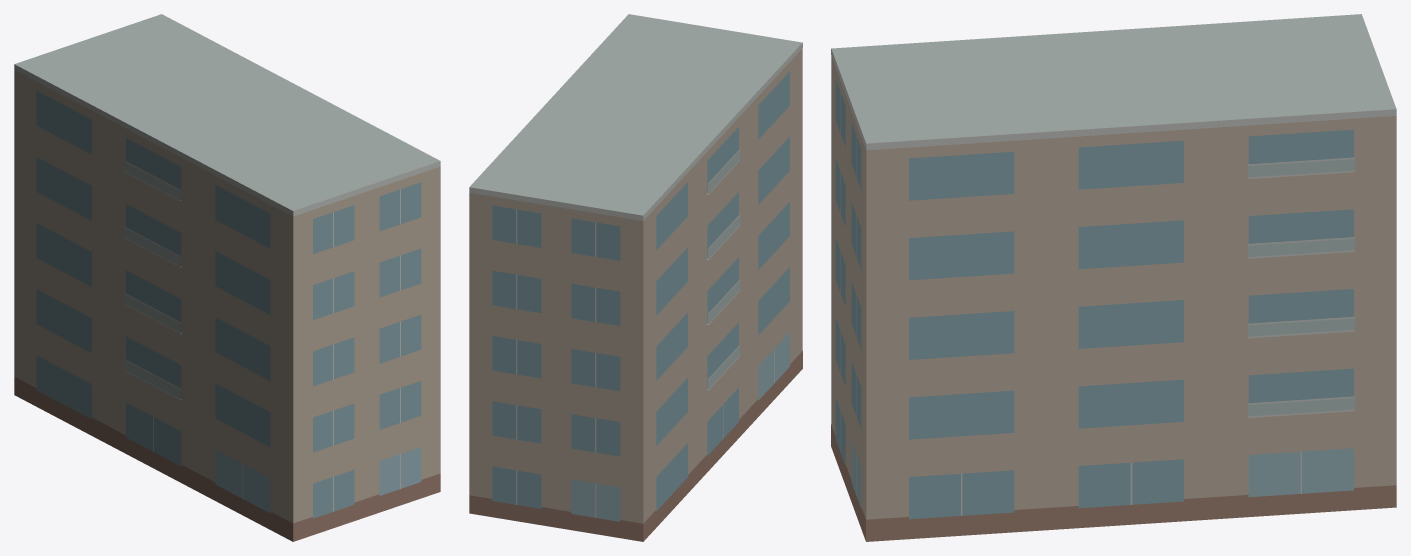
Rendered from survey-upis-32614559.glb.
The picture shows the model from 3 angles, left to right: view 1: azimuth 30°, elevation 25°; view 2: azimuth 150°, elevation 25°; view 3: azimuth 270°, elevation 25°; orthographic projection. The views are drawn at different scales.
Parts seen in each view (by area): view 1: survey-upis-32614559.tmp; view 2: survey-upis-32614559.tmp; view 3: survey-upis-32614559.tmp.
Part boxes in pixels (x1,y1,x2,y2): survey-upis-32614559.tmp: (14,14,440,541); survey-upis-32614559.tmp: (469,14,802,541); survey-upis-32614559.tmp: (831,14,1396,541).
Size of the model in its own units: 10.2 by 14.6 by 18.8.
